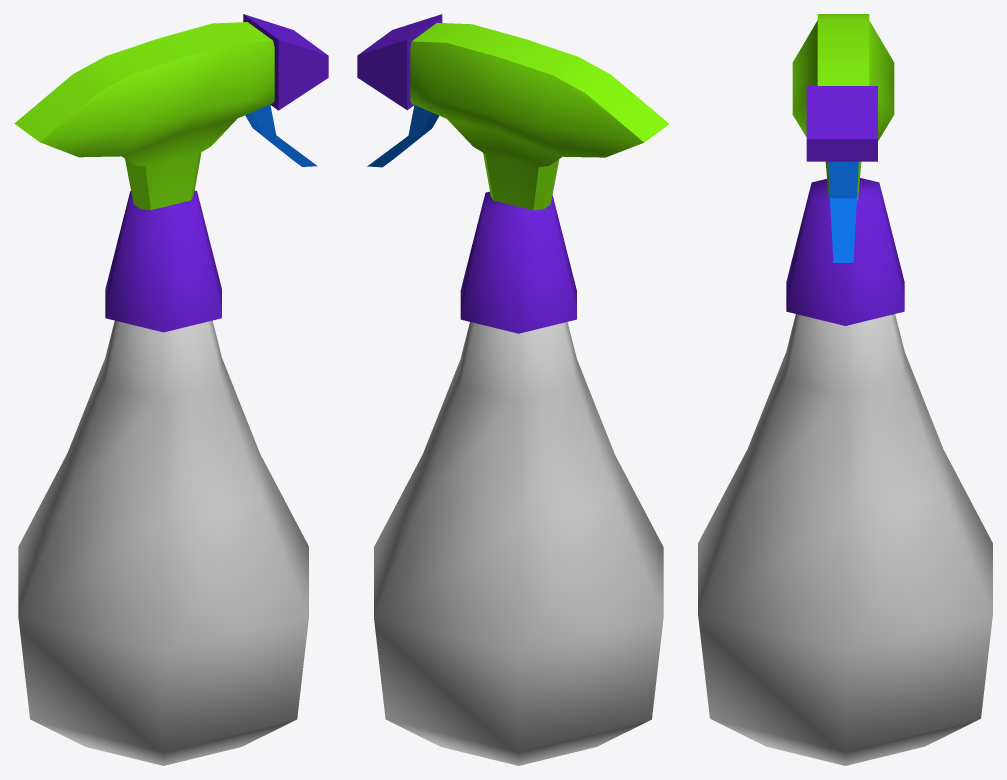
Rendered from Spray_Bottle_B.FBX.
The picture shows the model from 3 angles, left to right: view 1: azimuth 30°, elevation 25°; view 2: azimuth 150°, elevation 25°; view 3: azimuth 270°, elevation 25°; orthographic projection.
Visible parts, largest first — view 1: Spray_Bottle; view 2: Spray_Bottle; view 3: Spray_Bottle.
Part boxes in pixels (x1,y1,x2,y2): Spray_Bottle: (14, 14, 328, 765); Spray_Bottle: (357, 14, 669, 765); Spray_Bottle: (698, 14, 992, 765).
Bounding box in the file's own units: 43.95 × 97.44 × 37.68.
